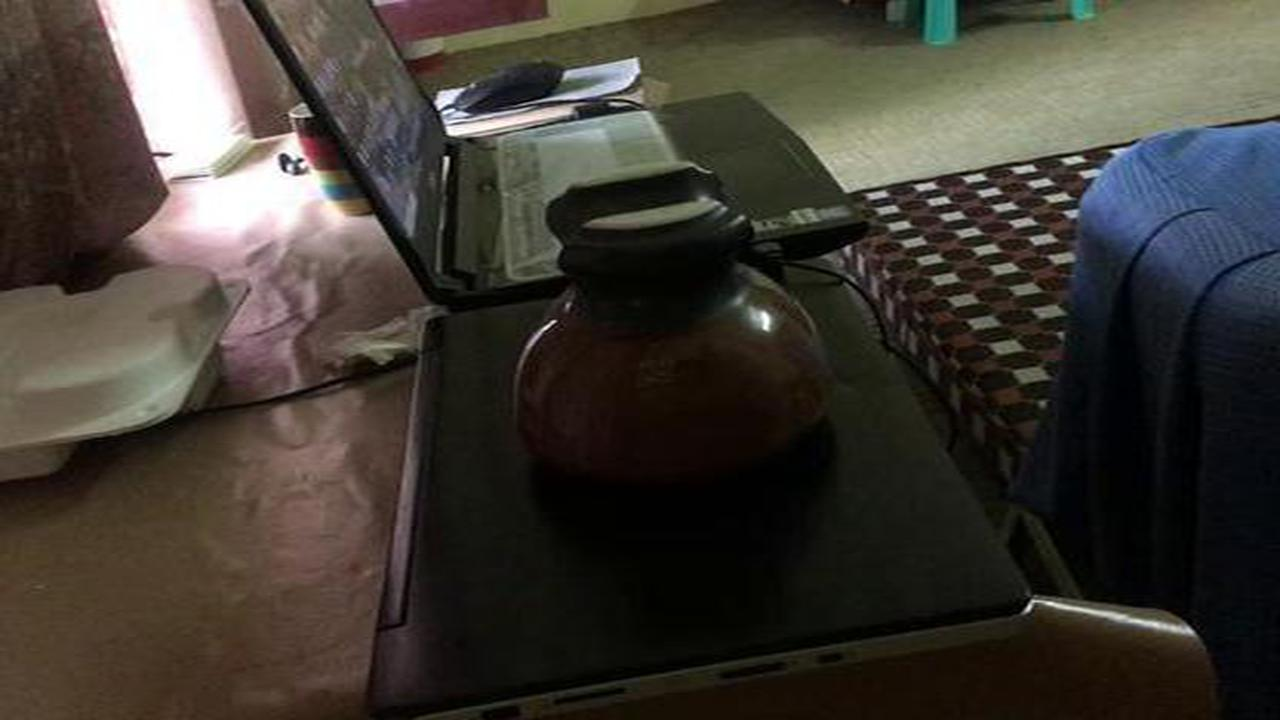insulator_pin: (498, 155, 847, 513)
